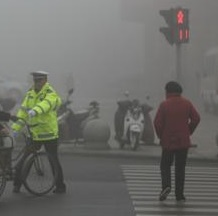person: (12, 69, 70, 196), (153, 81, 201, 203)
